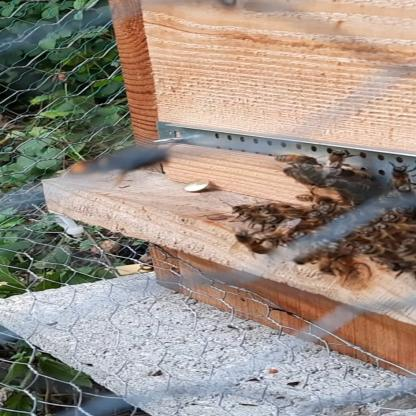bee: (225, 137, 416, 292)
hornet: (22, 123, 210, 187)
